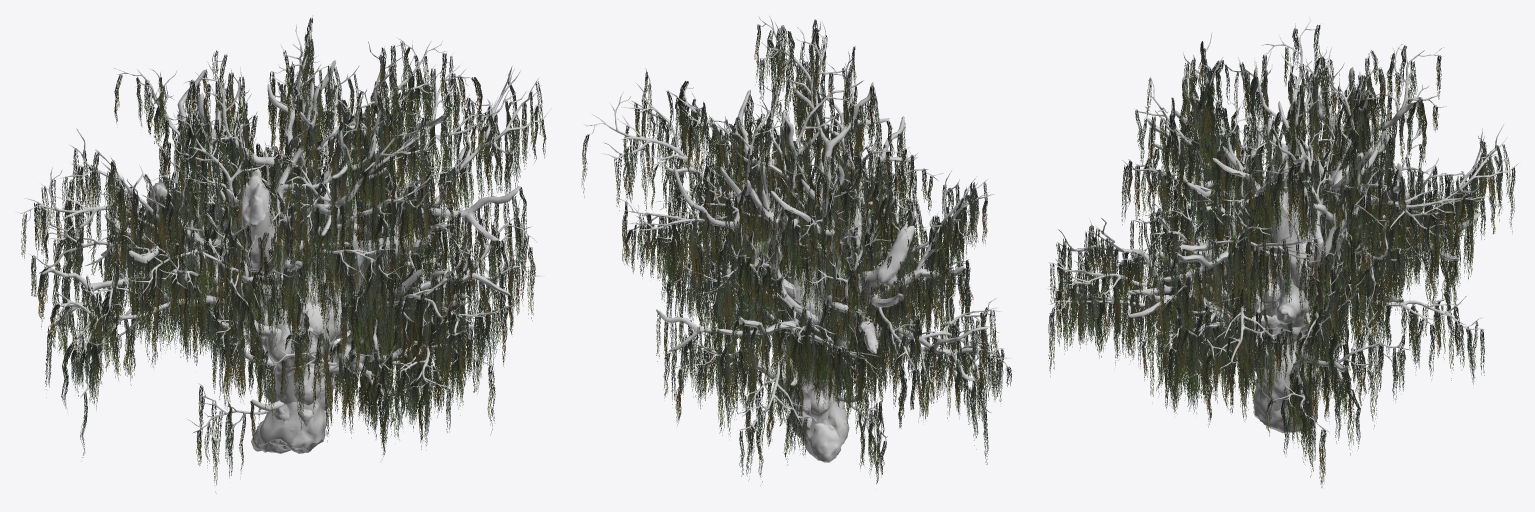
Rendered from TrunksGathV.FBX.
3 renders of one model, left to right at view 1: azimuth 30°, elevation 25°; view 2: azimuth 150°, elevation 25°; view 3: azimuth 270°, elevation 25°, orthographic. The views are drawn at different scales.
Visible parts, largest first — view 1: TrunkGathV_1, TrunkGathV_3, TrunkGathV_2, TrunkGathV_5, TrunkGathV_4, TrunkGathVS_2, TrunkGathVS_1; view 2: TrunkGathV_1, TrunkGathV_3, TrunkGathV_4, TrunkGathV_5, TrunkGathV_2, TrunkGathVS_2, TrunkGathVS_3, TrunkGathVS_1; view 3: TrunkGathV_3, TrunkGathV_2, TrunkGathV_4, TrunkGathV_1, TrunkGathV_5, TrunkGathVS_3, TrunkGathVS_1.
Part boxes in pixels (<box>): TrunkGathV_1: <box>29,50,471,461</box>; TrunkGathV_3: <box>15,37,544,450</box>; TrunkGathV_2: <box>144,15,551,456</box>; TrunkGathV_5: <box>37,68,414,453</box>; TrunkGathV_4: <box>180,53,498,450</box>; TrunkGathVS_2: <box>187,213,324,493</box>; TrunkGathVS_1: <box>212,217,414,442</box>; TrunkGathV_1: <box>679,46,1002,464</box>; TrunkGathV_3: <box>696,16,970,481</box>; TrunkGathV_4: <box>654,51,929,442</box>; TrunkGathV_5: <box>743,83,1015,462</box>; TrunkGathV_2: <box>581,68,973,437</box>; TrunkGathVS_2: <box>763,260,954,483</box>; TrunkGathVS_3: <box>661,240,841,399</box>; TrunkGathVS_1: <box>712,239,876,420</box>; TrunkGathV_3: <box>1048,32,1518,409</box>; TrunkGathV_2: <box>1131,63,1495,431</box>; TrunkGathV_4: <box>1046,74,1419,487</box>; TrunkGathV_1: <box>1056,15,1469,396</box>; TrunkGathV_5: <box>1175,43,1446,433</box>; TrunkGathVS_3: <box>1214,265,1349,409</box>; TrunkGathVS_1: <box>1191,219,1366,412</box>.
Bounding box in the file's own units: 281 × 267 × 257.
